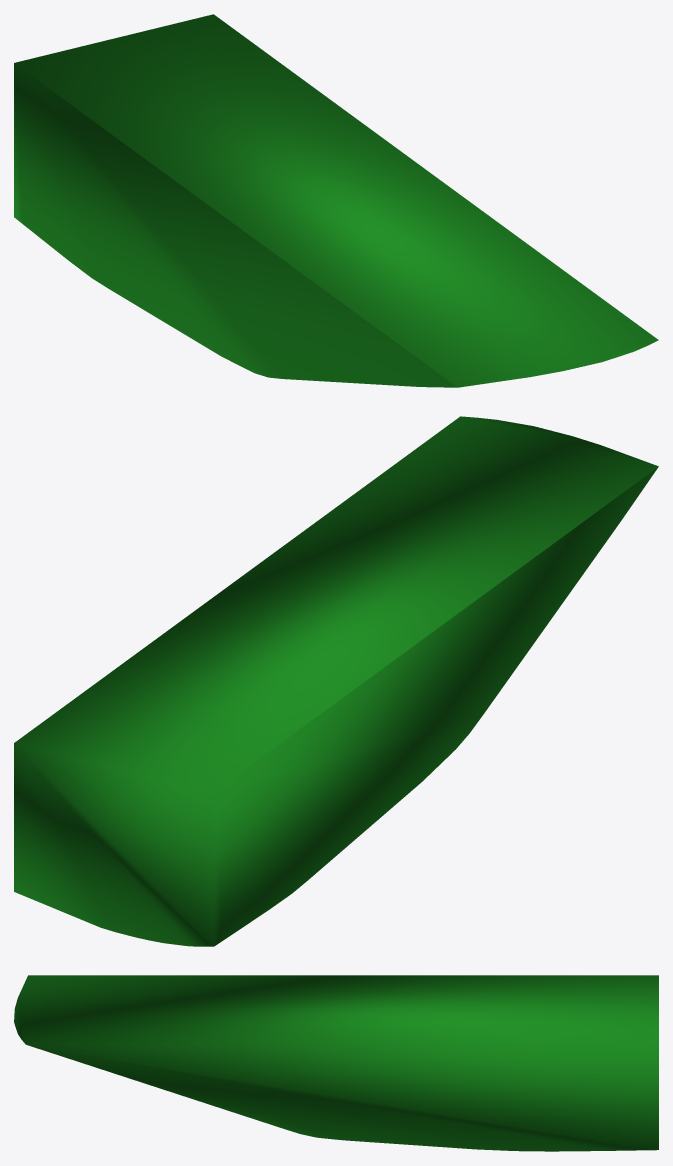
File: bee_toy_1_coacd_single_link_urdf_convex_piece_8.obj
3 renders of one model, top to bottom at view 1: azimuth 30°, elevation 25°; view 2: azimuth 150°, elevation 25°; view 3: azimuth 270°, elevation 25°, orthographic. The views are drawn at different scales.
Size of the model in its own units: 0.0292 by 0.0233 by 0.115.
